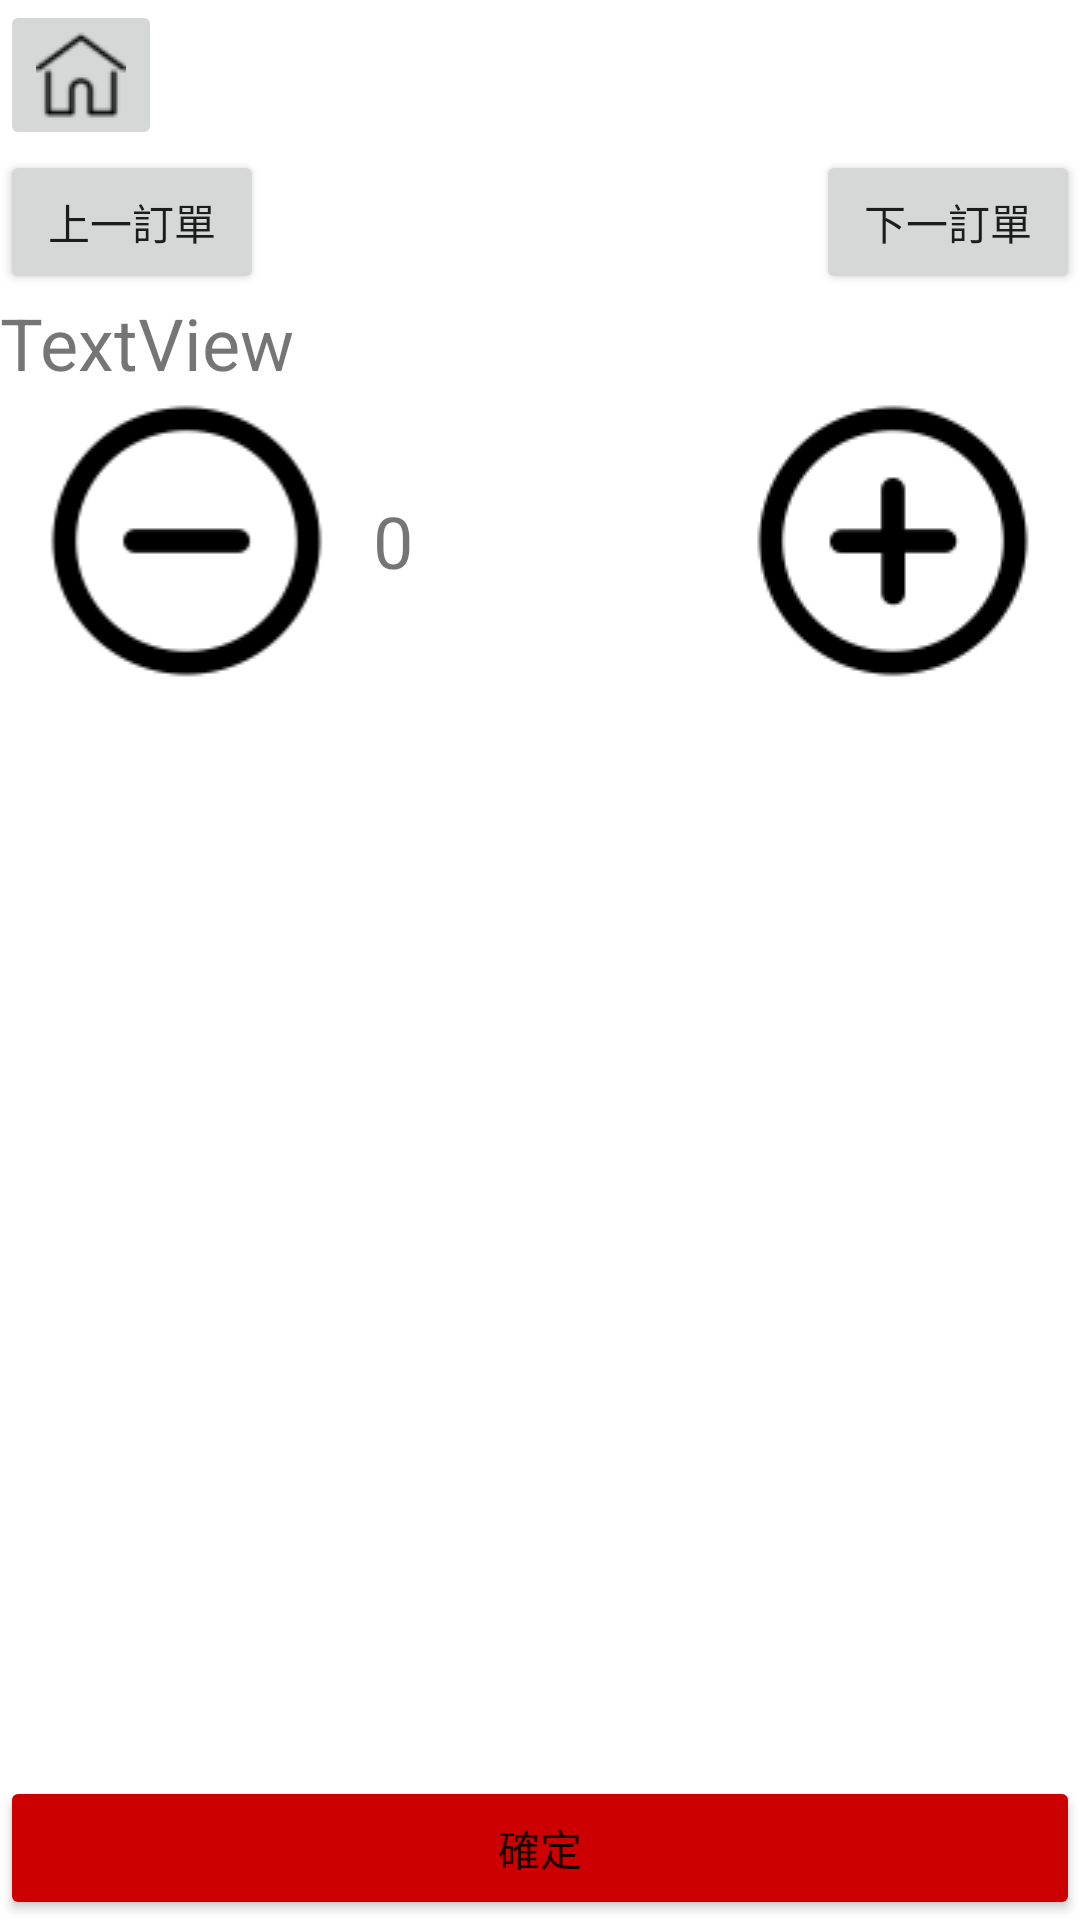

Where icons sit on this 1080x1920 app screen, as (x1, y1, x2, y2):
homepage: (12, 18, 150, 132)
minus: (51, 405, 322, 677)
plus: (757, 405, 1029, 677)
